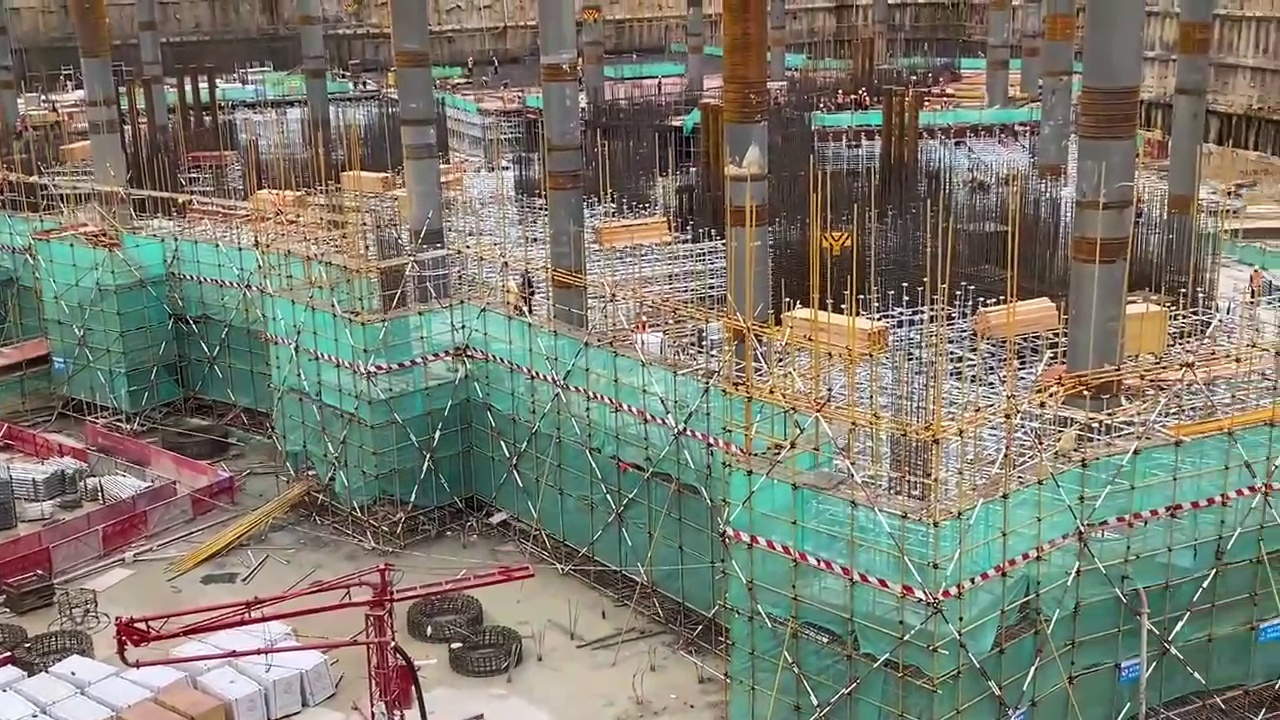fence: (1, 520, 104, 579), (149, 446, 233, 512), (101, 489, 195, 545), (81, 424, 157, 467)
hook: (819, 231, 851, 249)
scaffold: (10, 463, 64, 498), (93, 471, 152, 499)
wood: (779, 304, 892, 353), (977, 300, 1059, 338), (602, 214, 668, 246), (340, 165, 394, 191), (255, 187, 312, 209)
